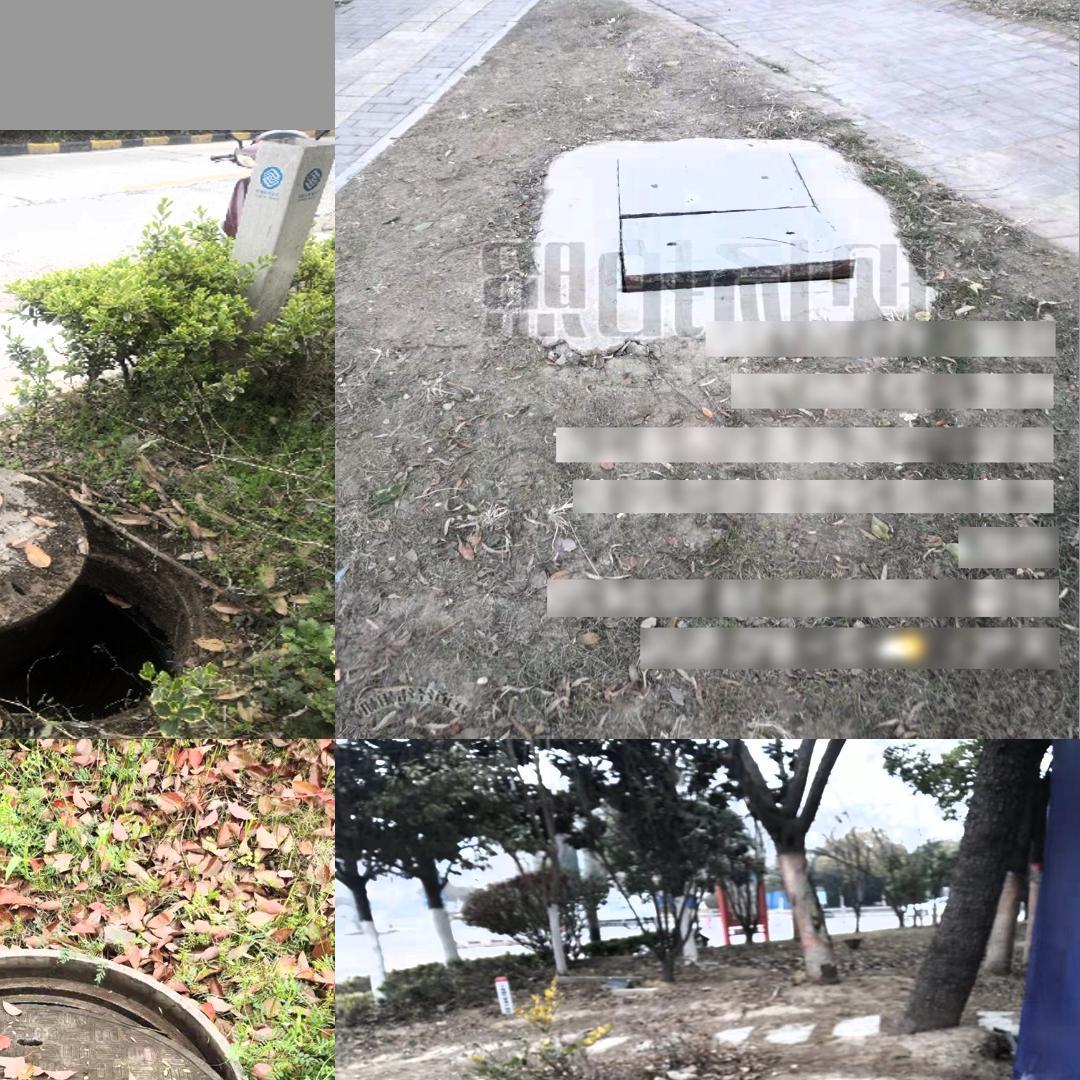uncovered: (0, 460, 225, 714), (607, 143, 856, 303), (0, 947, 263, 1080), (686, 1075, 1071, 1080)
